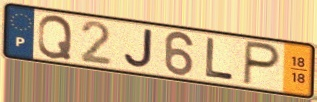2: (78, 20, 114, 67)
6: (163, 30, 196, 77)
J: (122, 28, 154, 71)
L: (204, 36, 236, 83)
P: (241, 39, 283, 88)
Q: (36, 14, 74, 61)
